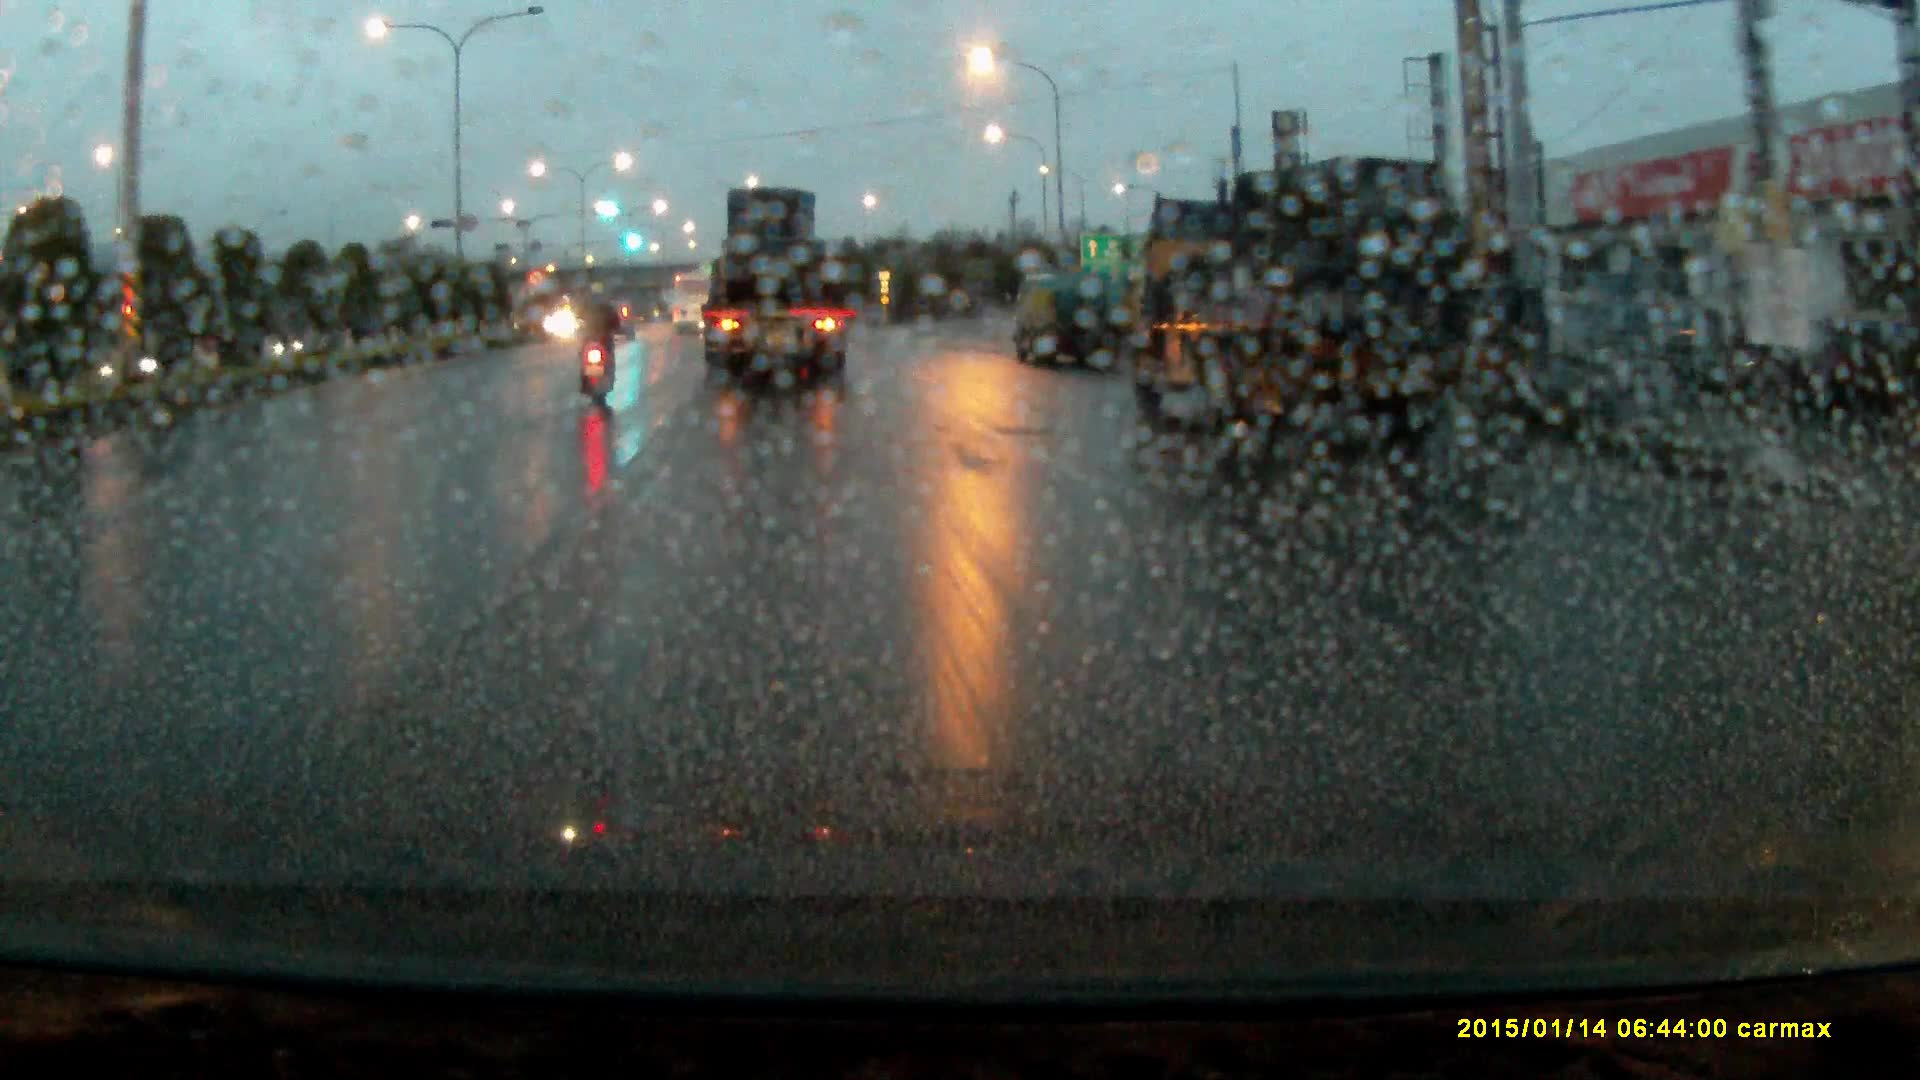rider: (571, 272, 625, 406)
vehicle: (1136, 160, 1467, 454), (698, 185, 854, 387), (1012, 269, 1123, 371), (673, 273, 712, 337), (593, 285, 638, 327)
